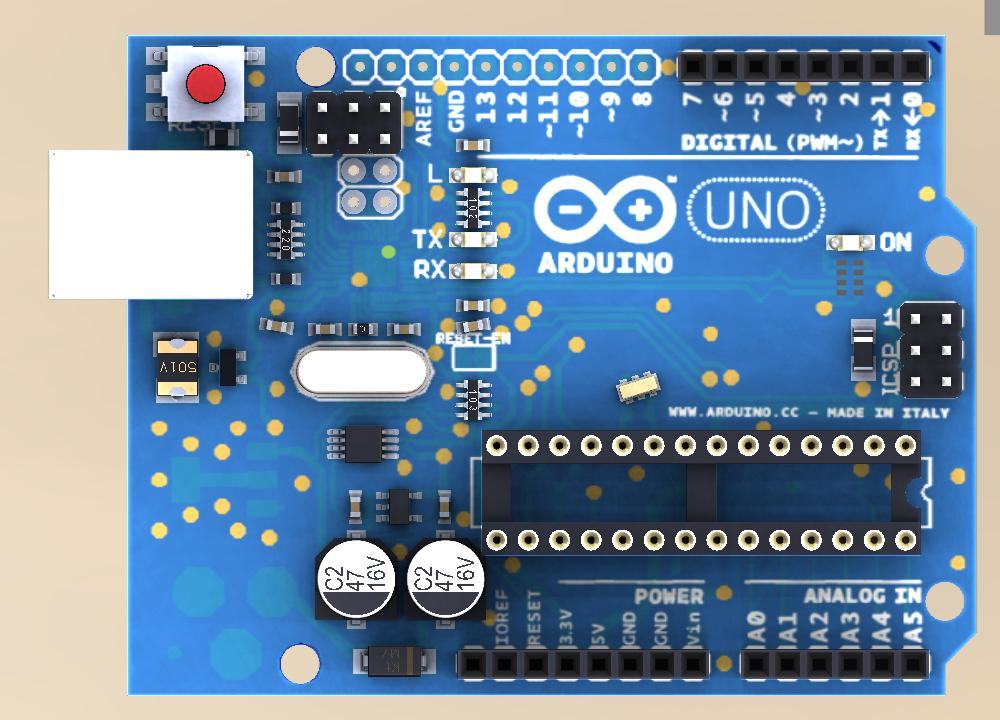16MHz Crystal: (613, 371, 662, 404)
47uF CAP: (312, 530, 402, 631), (402, 530, 487, 631)
CD1206: (847, 319, 879, 380), (275, 91, 304, 158)
Capa: (256, 315, 296, 338), (268, 167, 303, 190), (454, 136, 494, 156), (457, 316, 492, 337), (307, 320, 346, 337), (456, 297, 491, 315), (386, 321, 421, 338), (348, 486, 362, 528), (436, 489, 451, 525)
Crystal: (290, 343, 433, 404)
Fuse: (150, 330, 203, 407)
LMV358: (372, 486, 427, 531)
M7 diode: (348, 644, 440, 681)
PIN Header: (306, 90, 404, 158), (899, 301, 962, 400)
Ports: (677, 48, 932, 87), (454, 644, 712, 682), (739, 644, 931, 686)
Reset: (144, 43, 265, 123)
Resistor: (201, 126, 239, 150), (268, 271, 303, 289), (345, 320, 378, 338), (270, 201, 304, 218)
Resistor pack: (264, 218, 310, 263), (452, 187, 495, 230), (454, 375, 492, 423)
SSOT3: (207, 347, 253, 389)
USB: (47, 148, 255, 302)
lp2985: (324, 422, 400, 467)
